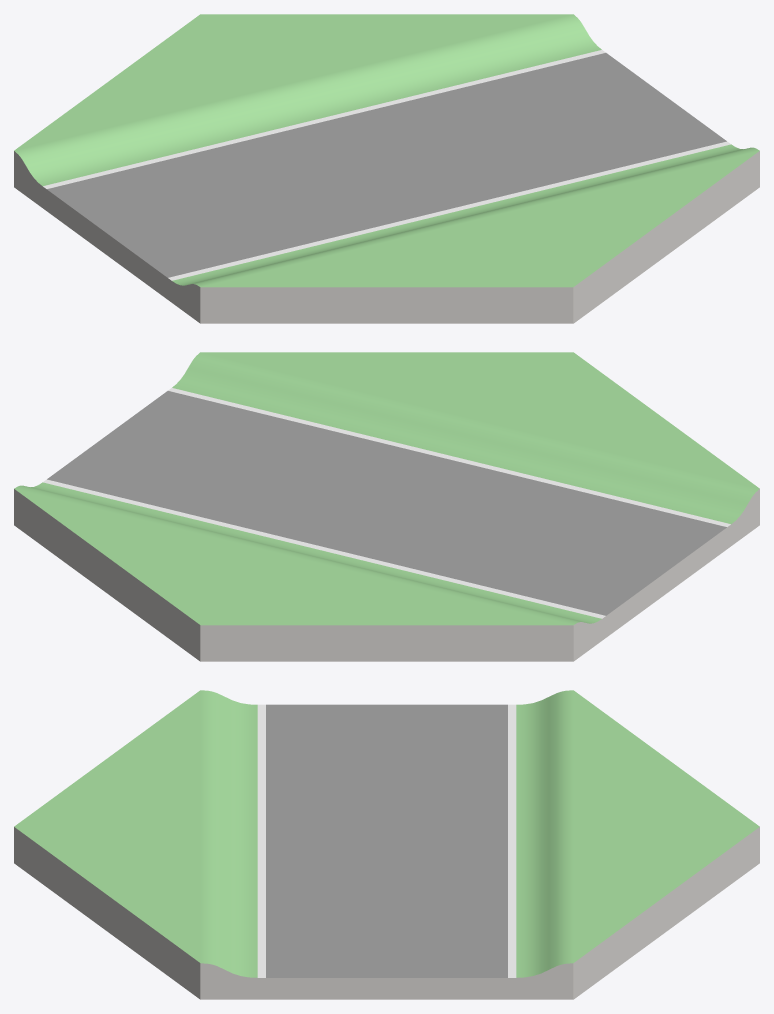
The model's file is trackFlatStraight.glb.
The picture shows the model from 3 angles, top to bottom: view 1: azimuth 30°, elevation 25°; view 2: azimuth 150°, elevation 25°; view 3: azimuth 270°, elevation 25°; orthographic projection.
Parts seen in each view (by area): view 1: object1; view 2: object1; view 3: object1.
Part boxes in pixels (x1,y1,x2,y2): object1: (14, 14, 759, 323); object1: (14, 352, 759, 661); object1: (14, 690, 759, 999).
Bounding box in the file's own units: 1 × 0.0625 × 1.15.
